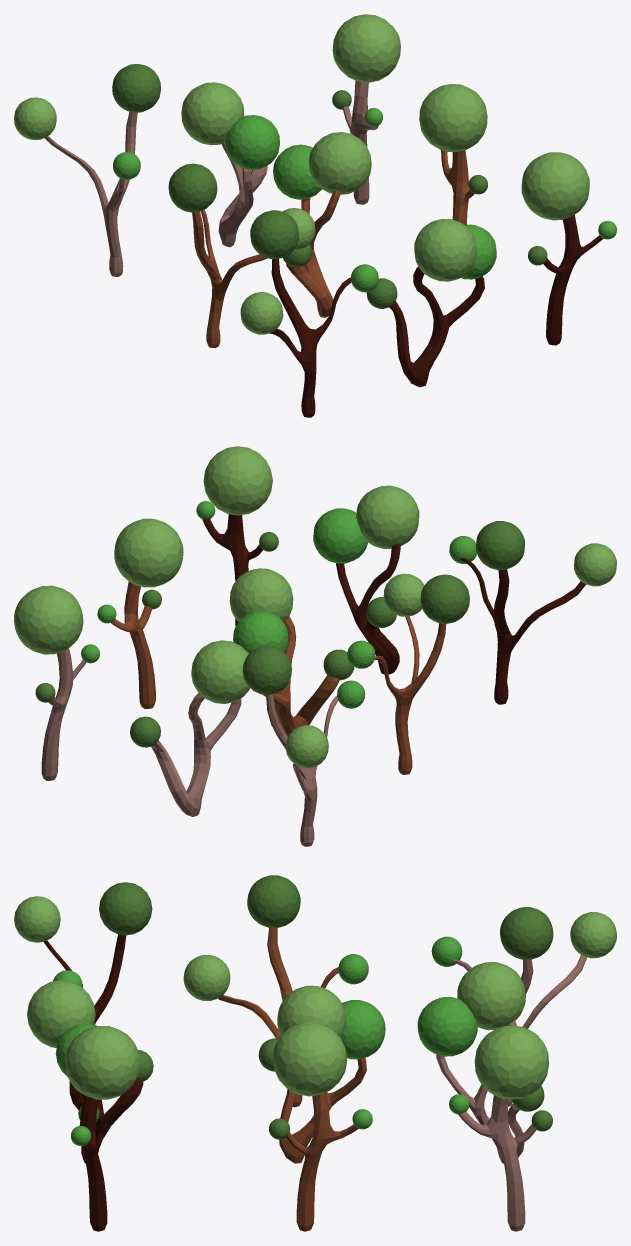
The model's file is trees.fbx.
3 views of the same model, one above another, from view 1: azimuth 30°, elevation 25°; view 2: azimuth 150°, elevation 25°; view 3: azimuth 270°, elevation 25° (orthographic). The views are drawn at different scales.
Visible parts, largest first — view 1: Tree2, Tree5, Tree8, Tree1, Tree3, Tree7, Tree9, Tree6, Tree4; view 2: Tree2, Tree5, Tree8, Tree1, Tree6, Tree9, Tree4, Tree7, Tree3; view 3: Tree8, Tree9, Tree6, Tree3, Tree5, Tree4, Tree7, Tree2, Tree1.
Boxes of the visible parts, x1,y1,x2,y2 form: Tree2: (366, 219, 496, 387); Tree5: (273, 132, 371, 317); Tree8: (181, 82, 279, 247); Tree1: (240, 210, 378, 417); Tree3: (521, 152, 616, 345); Tree7: (14, 64, 160, 276); Tree9: (332, 14, 400, 204); Tree6: (419, 84, 487, 224); Tree4: (168, 163, 315, 348); Tree2: (313, 485, 419, 674); Tree5: (229, 568, 354, 736); Tree8: (130, 640, 250, 816); Tree1: (449, 521, 616, 704); Tree6: (97, 518, 183, 708); Tree9: (14, 585, 99, 780); Tree4: (347, 573, 469, 774); Tree7: (242, 645, 365, 846); Tree3: (196, 446, 278, 625); Tree8: (417, 962, 544, 1163); Tree9: (449, 1025, 552, 1231); Tree6: (269, 1022, 372, 1231); Tree3: (65, 1026, 139, 1231); Tree5: (258, 985, 385, 1163); Tree4: (183, 875, 368, 1107); Tree7: (431, 907, 616, 1106); Tree2: (27, 980, 153, 1163); Tree1: (14, 882, 152, 1098).
Size of the model in its own units: 1392 by 666 by 1704.
